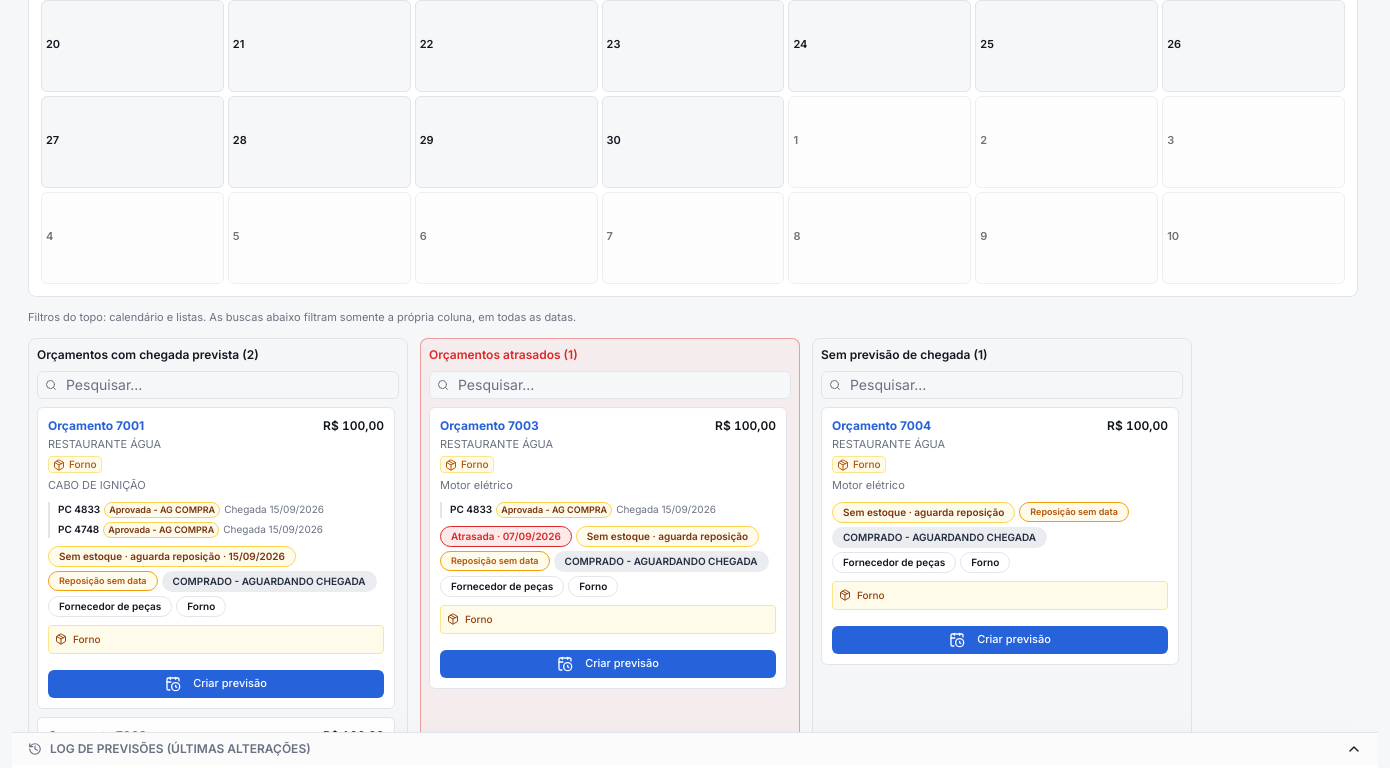
Scenario: filtros da página de chegada de peças › aplica a busca geral ao calendário e às listas sem transformar busca de coluna em filtro global
The width and height of the screenshot is (1390, 768).
(page scrolled)
Expected: the text "Orçamento 7001" is shown, top-left (48, 418), bottom-right (144, 434)
In the field named "Buscar nas chegadas previstas": (218, 384) top-left (37, 370), bottom-right (399, 398), type "7001"
(page scrolled)
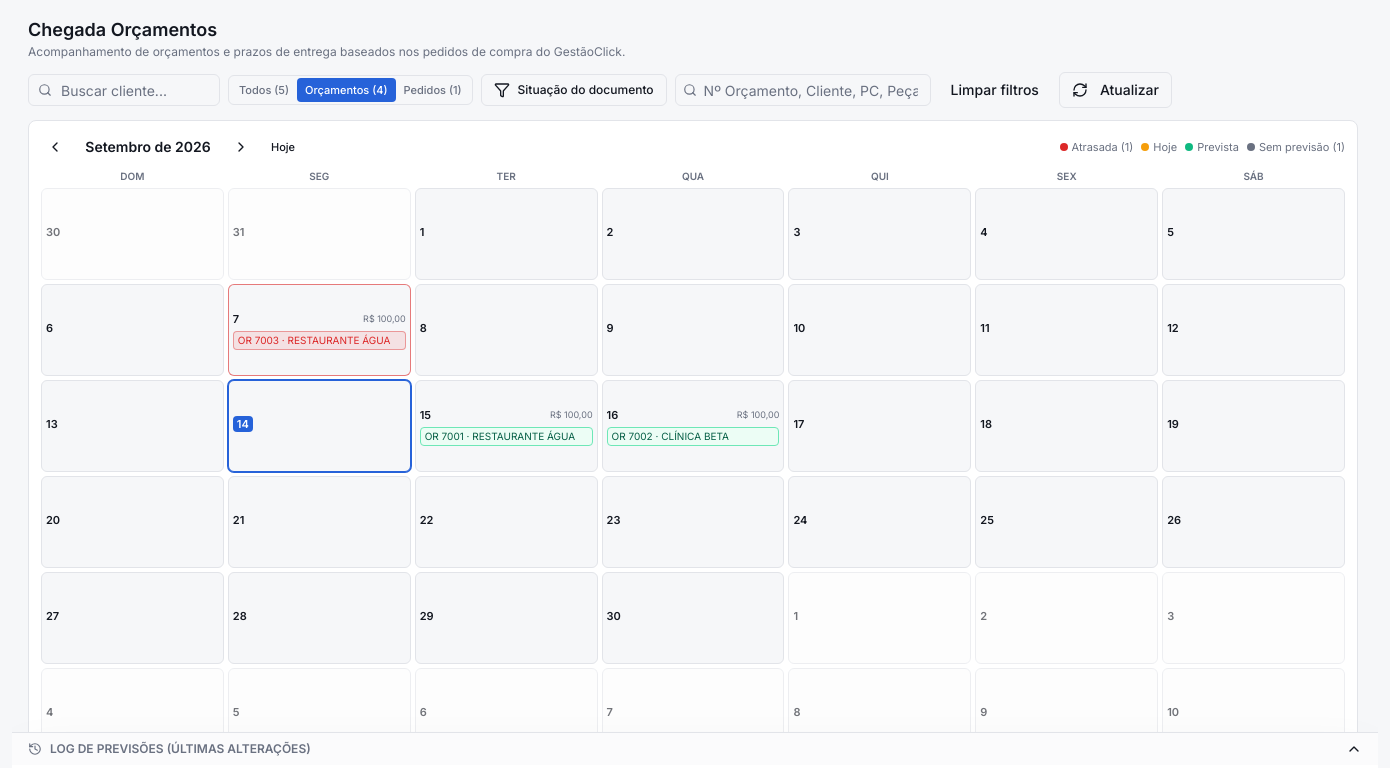
Expected: the button "OR 7002 · CLÍNICA BETA" is shown, top-left (607, 427), bottom-right (780, 446)
Expected: the text "Orçamento 7002" is gone
In the field named "Buscar em todas as chegadas": (803, 90) top-left (675, 74), bottom-right (931, 106), type "cabo de ignicao"
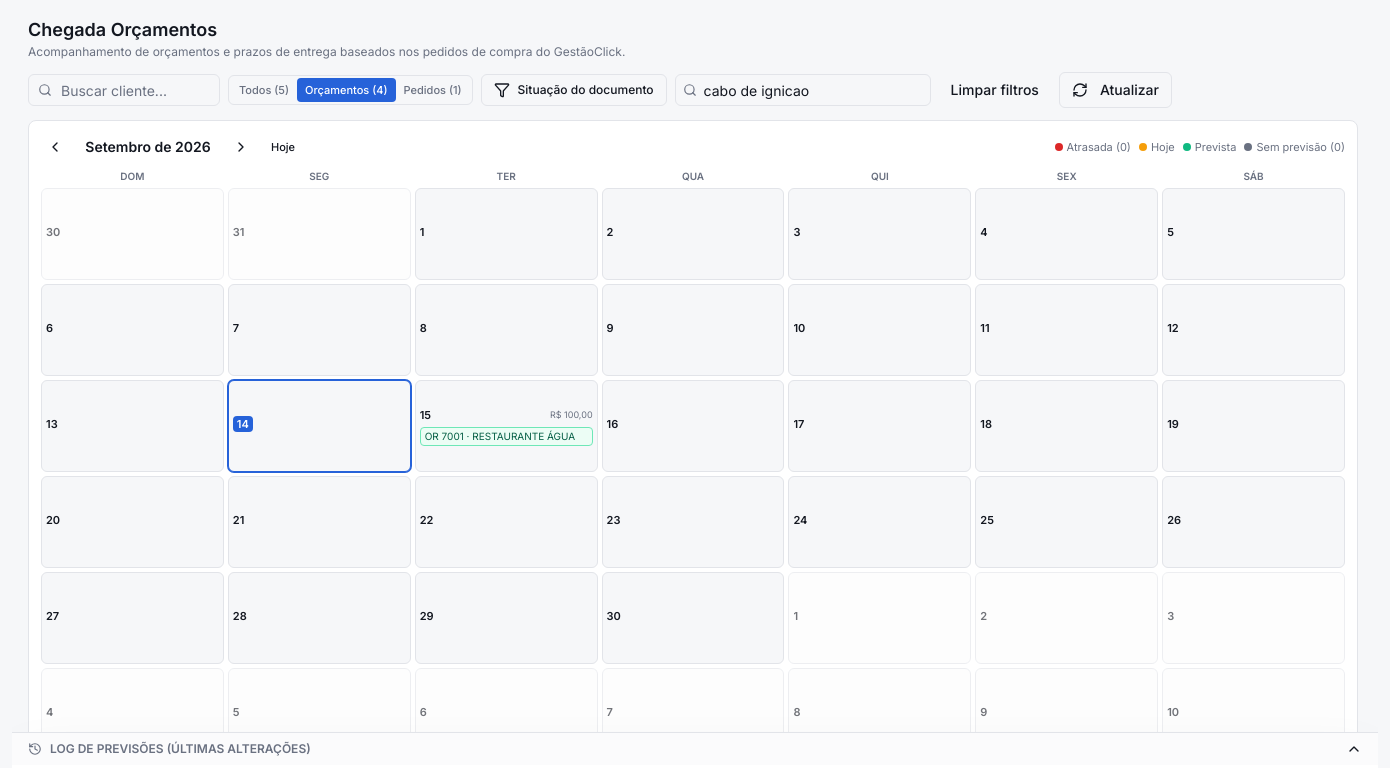
Expected: the button "OR 7001 · RESTAURANTE ÁGUA" is shown, top-left (420, 427), bottom-right (593, 446)
Expected: the button "OR 7002 ·" is gone
